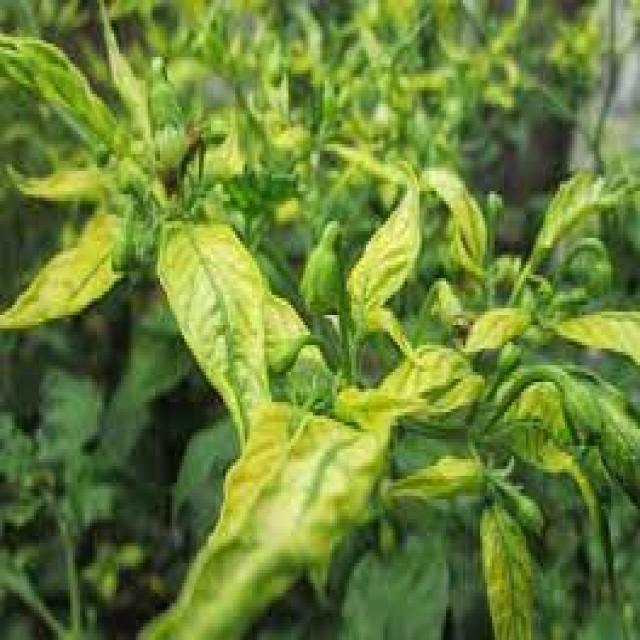virus_kuning: (152, 215, 294, 439), (0, 201, 146, 333), (344, 156, 424, 310)
